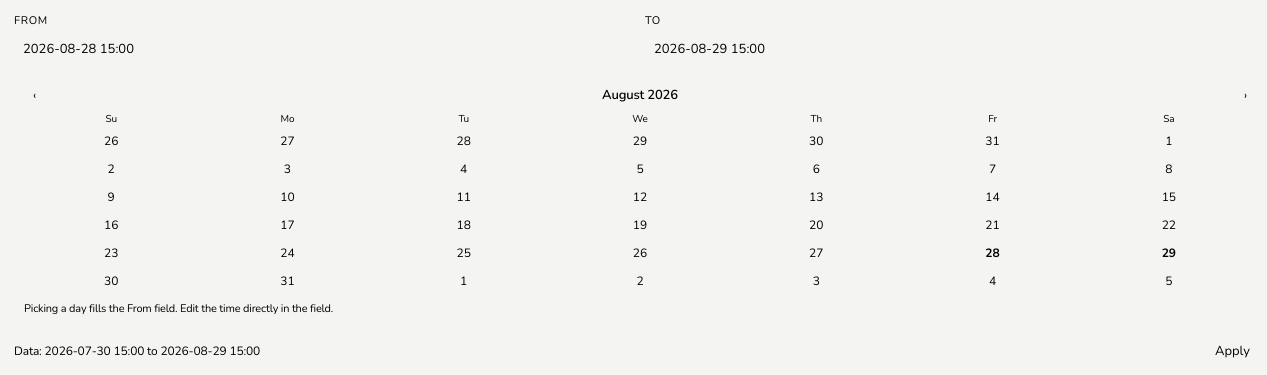
Test: AbsoluteRangeComponent › AbsoluteRangeComponent, asked for the previous month, shows the month before the one on screen
This screenshot has width=1267, height=375.
Click the button with class "month-calendar-step" showing "‹" at (35, 95), box [24,85,45,105]
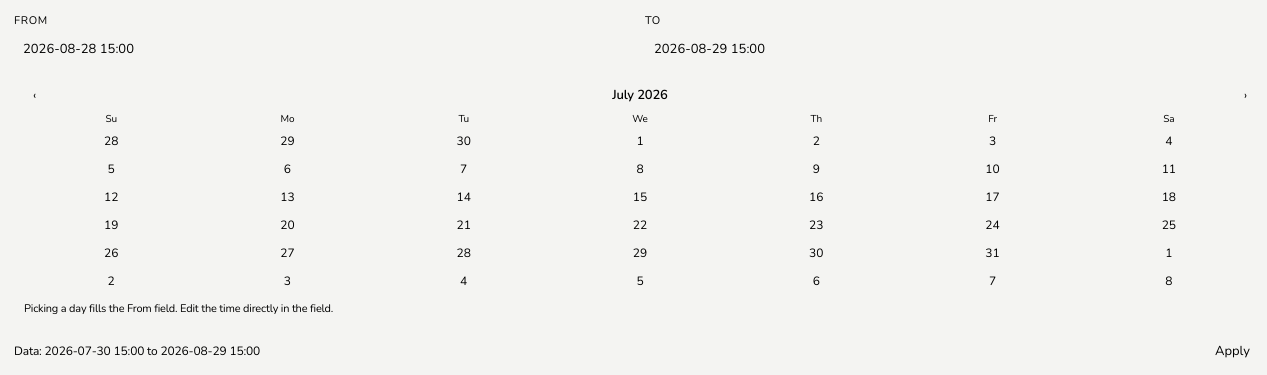
Expected: the text with class "month-calendar-title" reads "July 2026", [612,86,668,104]
